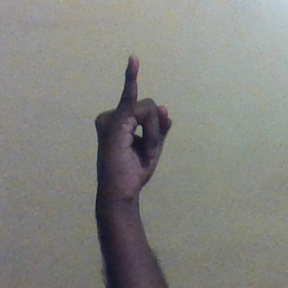I: (90, 53, 171, 193)
